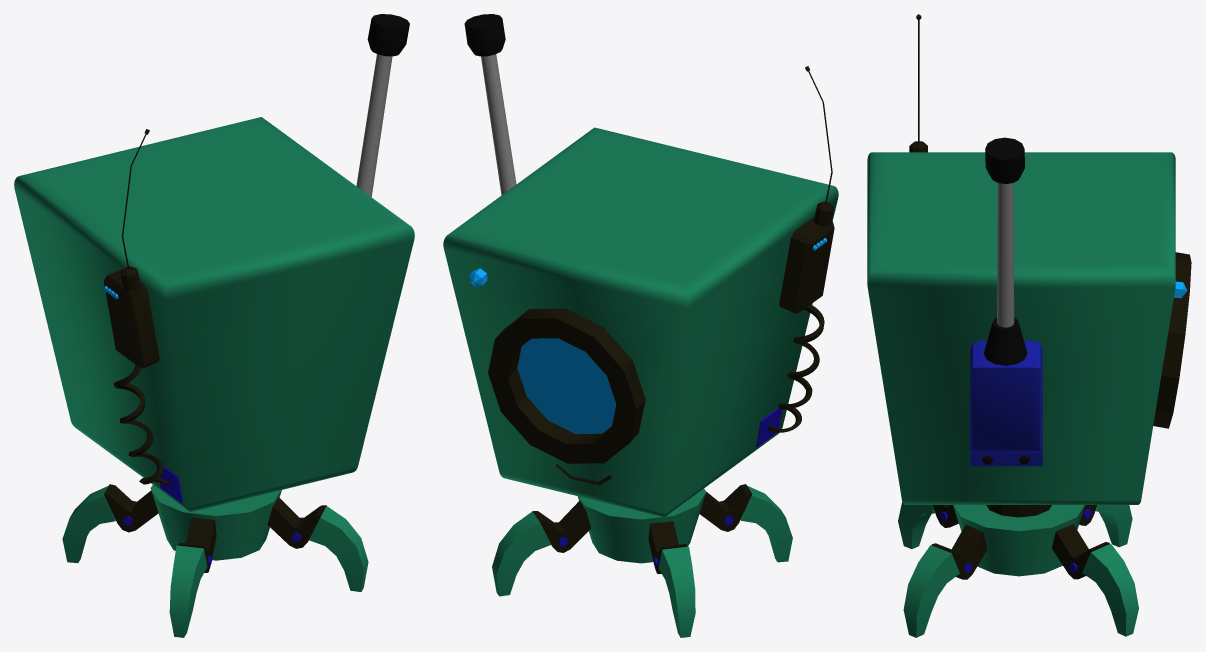
File: Robot.fbx
The picture shows the model from 3 angles, left to right: view 1: azimuth 30°, elevation 25°; view 2: azimuth 150°, elevation 25°; view 3: azimuth 270°, elevation 25°; orthographic projection. The views are drawn at different scales.
Visible parts, largest first — view 1: Box001; view 2: Box001; view 3: Box001.
Part boxes in pixels (left/top/right/bottom): Box001: left=14, top=14, right=414, bottom=637; Box001: left=443, top=14, right=838, bottom=637; Box001: left=867, top=14, right=1191, bottom=637.
Size of the model in its own units: 902 by 1363 by 760.
